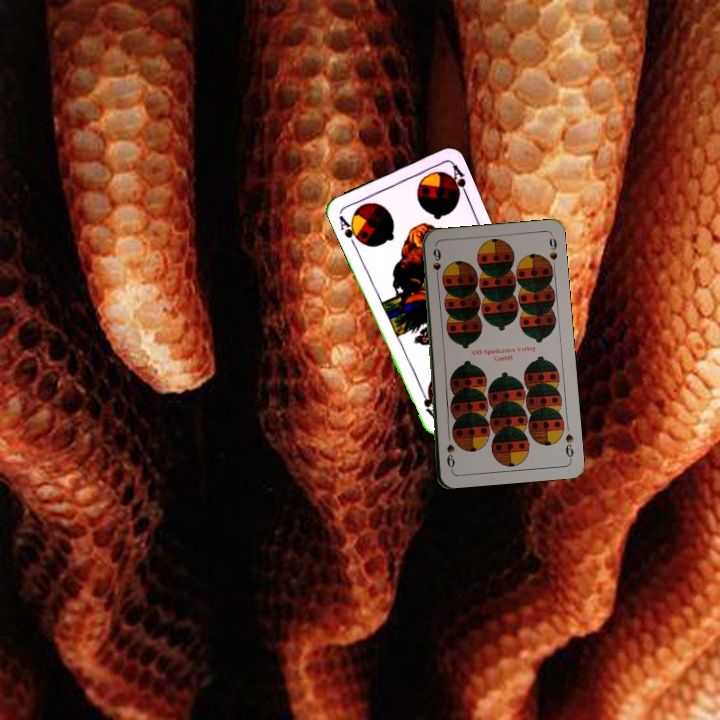S9: (429, 244, 442, 284), (561, 430, 576, 462)
SA: (335, 211, 364, 249)
